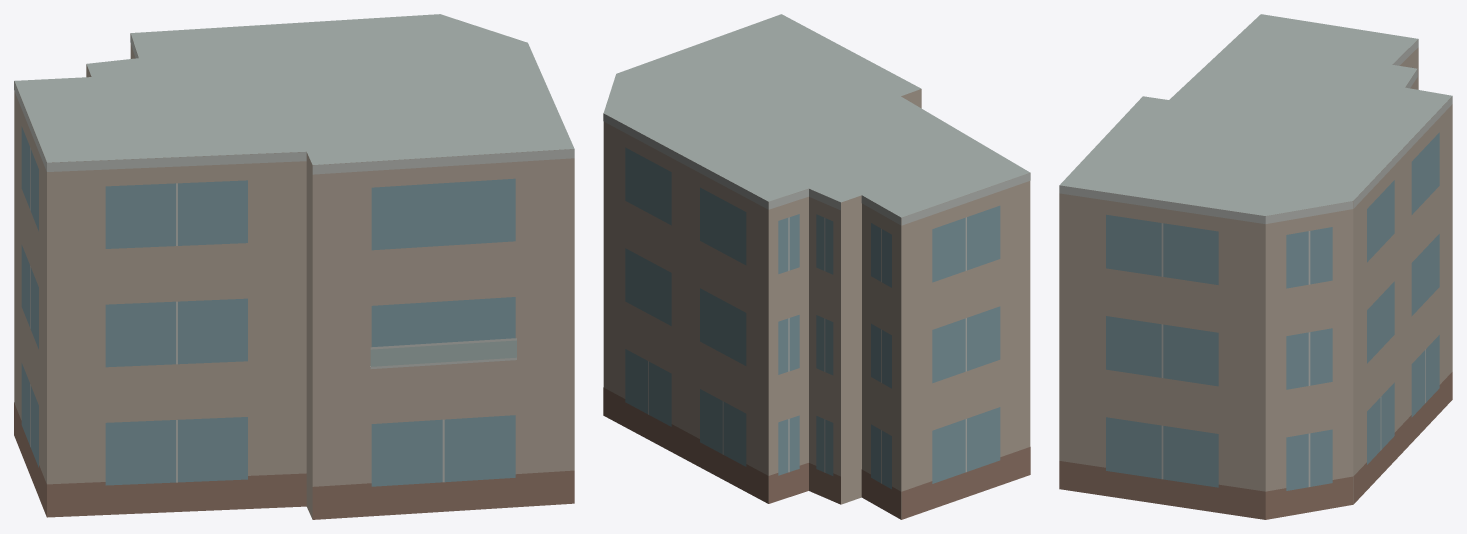
File: survey-upis-32936858.glb
3 views of the same model, side by side, from view 1: azimuth 30°, elevation 25°; view 2: azimuth 150°, elevation 25°; view 3: azimuth 270°, elevation 25° (orthographic). The views are drawn at different scales.
Visible parts, largest first — view 1: survey-upis-32936858.tmp; view 2: survey-upis-32936858.tmp; view 3: survey-upis-32936858.tmp.
Boxes of the visible parts, box(x1,y1,x2,y2) form: survey-upis-32936858.tmp: box(14, 14, 574, 519); survey-upis-32936858.tmp: box(603, 14, 1030, 519); survey-upis-32936858.tmp: box(1059, 14, 1452, 519).
Size of the model in its own units: 13.06 by 9.15 by 10.75.
